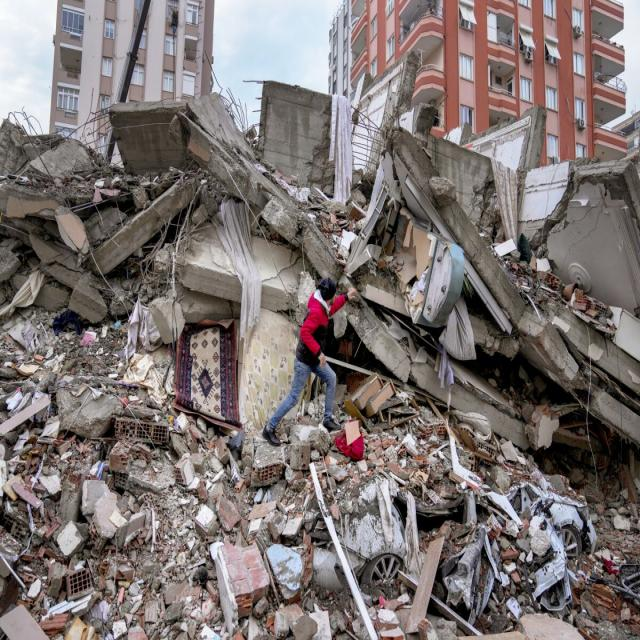Earthquake: (84, 69, 626, 640)
